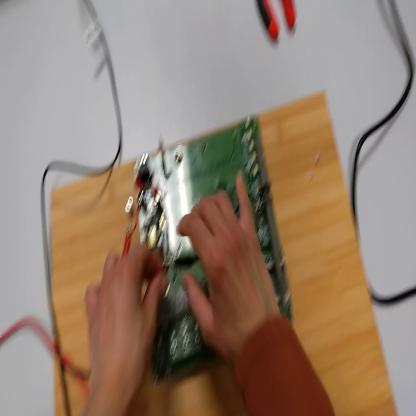hand: (180, 175, 279, 362), (83, 243, 164, 396)
low voltage board: (131, 112, 292, 384)
pliers: (257, 1, 298, 43)
working area: (54, 86, 399, 413)
